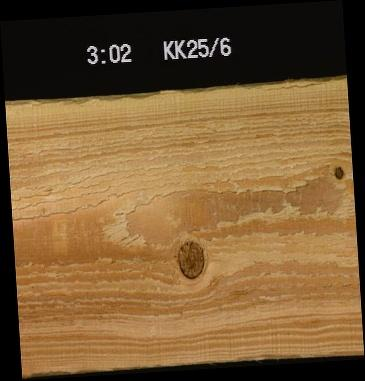dry_knot: (174, 237, 205, 280), (331, 163, 344, 181)
split: (260, 82, 329, 95)
wave: (4, 89, 232, 104), (236, 350, 362, 360)
